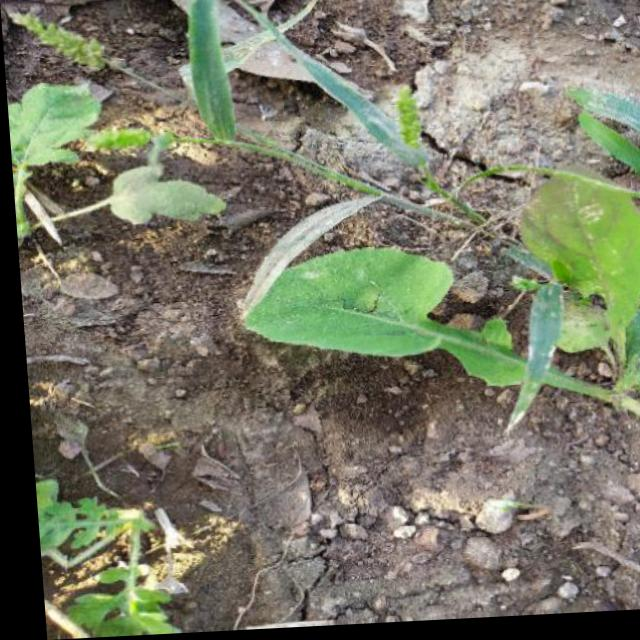weed: (190, 124, 640, 509)
